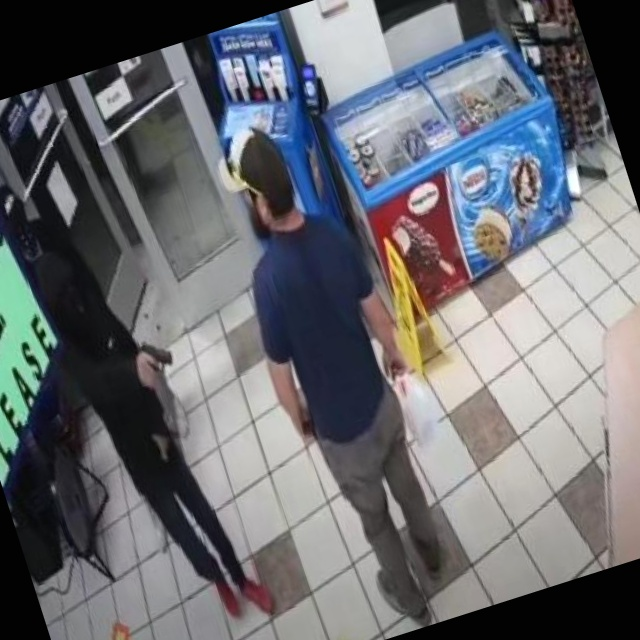gun: (129, 332, 184, 395)
